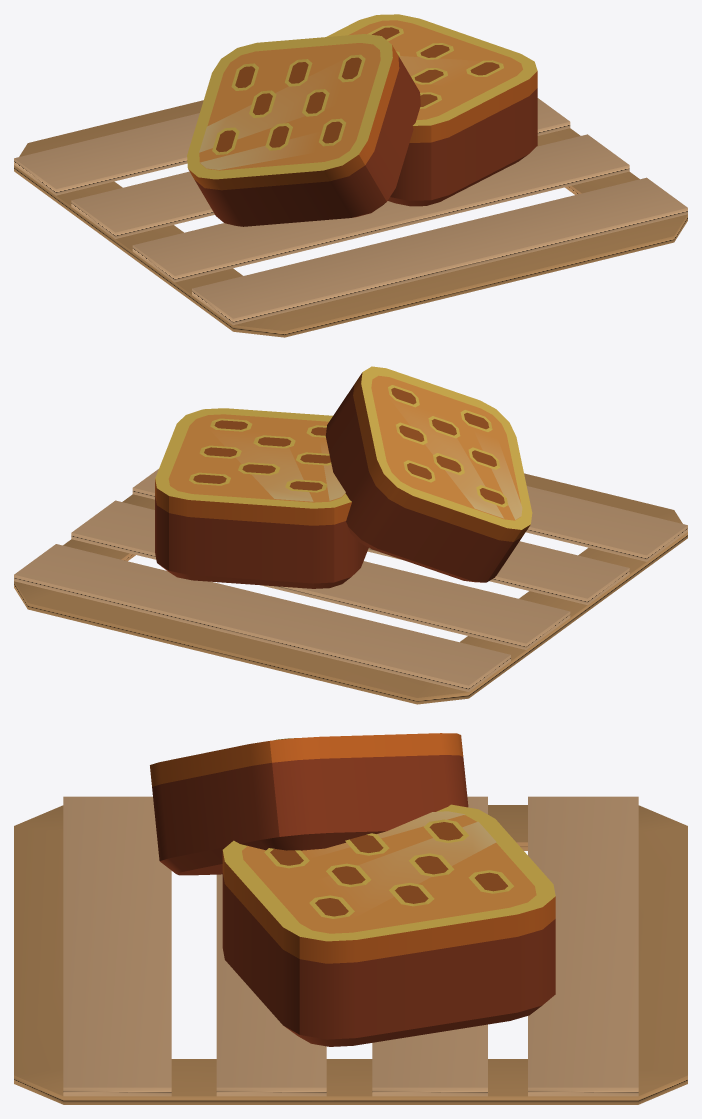
Rendered from BC_cookrecipe_S_24.fbx.
The picture shows the model from 3 angles, top to bottom: view 1: azimuth 30°, elevation 25°; view 2: azimuth 150°, elevation 25°; view 3: azimuth 270°, elevation 25°; orthographic projection. The views are drawn at different scales.
Parts seen in each view (by area): view 1: base, BC_cookrecipe_S_25 1; view 2: base, BC_cookrecipe_S_25 1; view 3: base, BC_cookrecipe_S_25 1.
Boxes of the visible parts, bbox=[...] form: base: bbox=[14, 98, 687, 337]; BC_cookrecipe_S_25 1: bbox=[187, 14, 537, 226]; base: bbox=[14, 469, 687, 704]; BC_cookrecipe_S_25 1: bbox=[155, 366, 532, 588]; base: bbox=[14, 796, 687, 1104]; BC_cookrecipe_S_25 1: bbox=[150, 733, 555, 1046].
Size of the model in its own units: 3.54 by 1.29 by 3.47.
